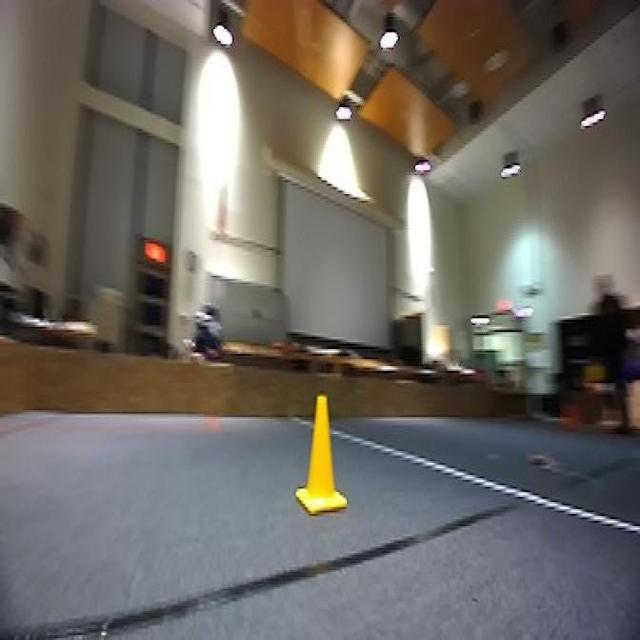frc_cone: (296, 388, 350, 521)
